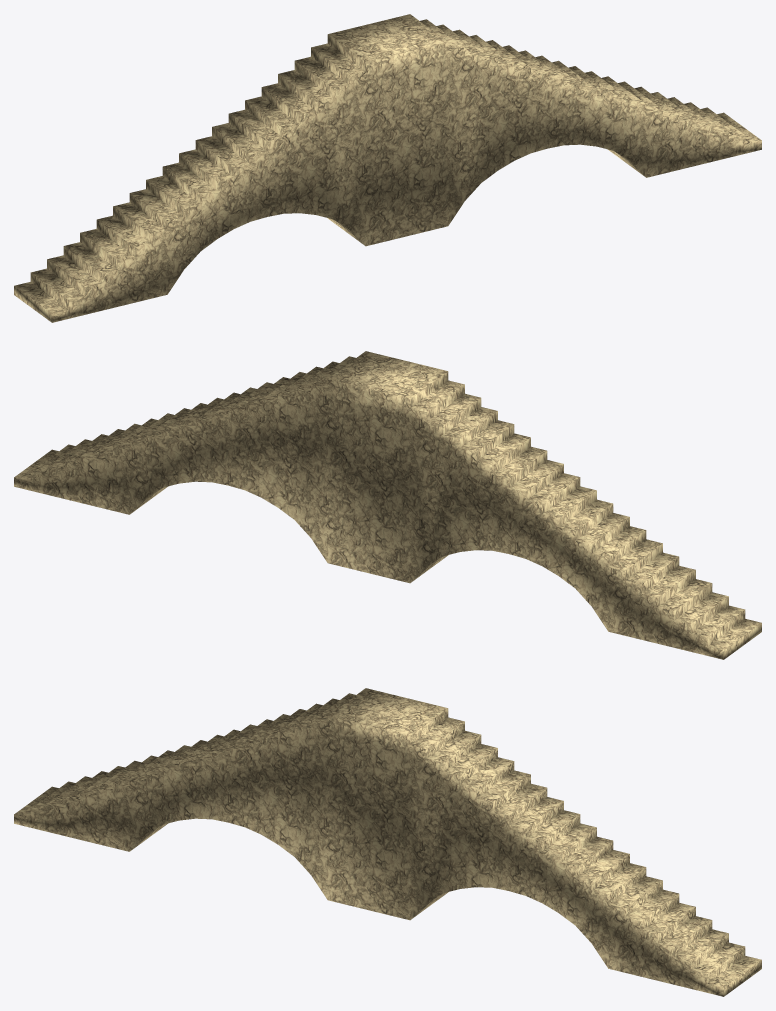
Rendered from double_stair.fbx.
The picture shows the model from 3 angles, top to bottom: view 1: azimuth 30°, elevation 25°; view 2: azimuth 150°, elevation 25°; view 3: azimuth 330°, elevation 25°; orthographic projection.
Parts seen in each view (by area): view 1: double_stair; view 2: double_stair; view 3: double_stair.
Boxes of the visible parts, x1,y1,x2,y2 form: double_stair: (14, 14, 761, 322); double_stair: (14, 351, 761, 659); double_stair: (14, 688, 761, 996).
Size of what is drawn, in the model's own units: 64.5 by 16 by 6.
